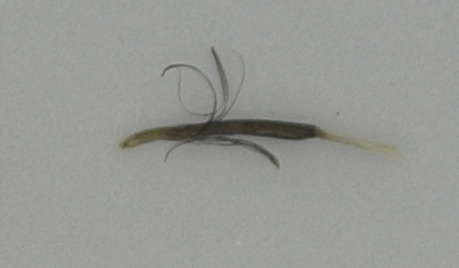เมล้ดปลายพู่กัน: (117, 45, 399, 169)
